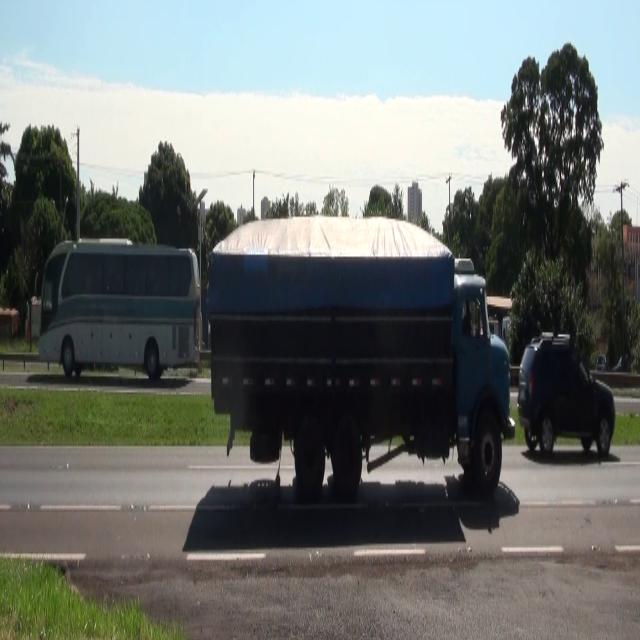-axle: (471, 409, 504, 507), (293, 416, 328, 505), (330, 413, 365, 501)
